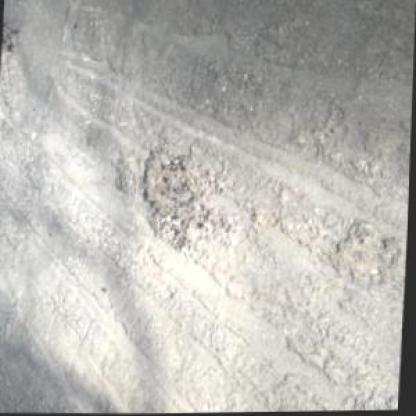pothole: (136, 142, 229, 260), (113, 156, 138, 192)
